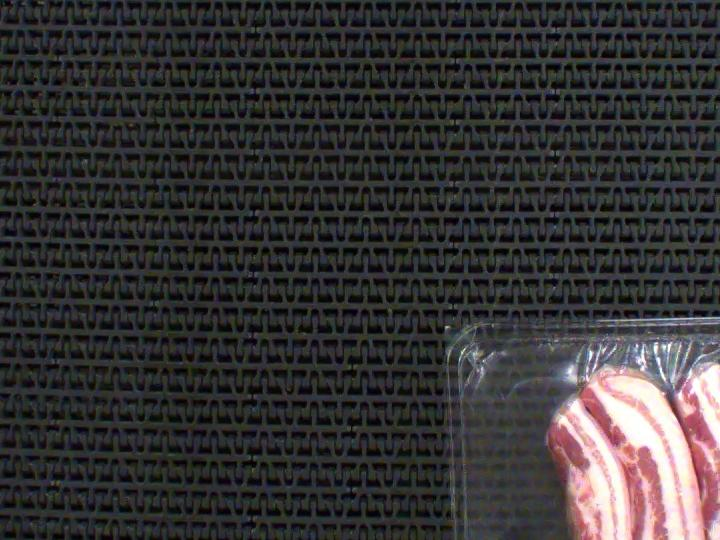unsealed: (452, 318, 720, 540)
